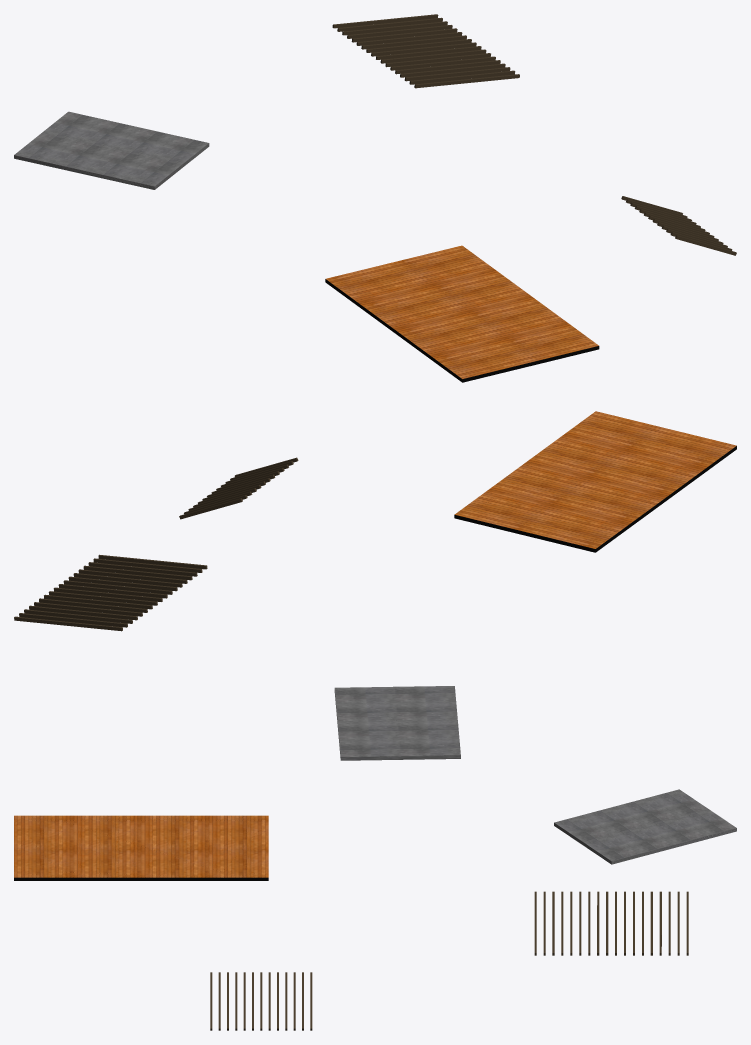
File: Roof.glb
The picture shows the model from 3 angles, top to bottom: view 1: azimuth 30°, elevation 25°; view 2: azimuth 150°, elevation 25°; view 3: azimuth 270°, elevation 25°; orthographic projection. The views are drawn at different scales.
Parts seen in each view (by area): view 1: Roof; view 2: Roof; view 3: Roof.
Boxes of the visible parts, x1,y1,x2,y2 form: Roof: [14, 14, 736, 382]; Roof: [14, 411, 736, 760]; Roof: [14, 789, 736, 1030].
Bounding box in the file's own units: 114 × 18.12 × 163.
5 materials, 3 textured.
